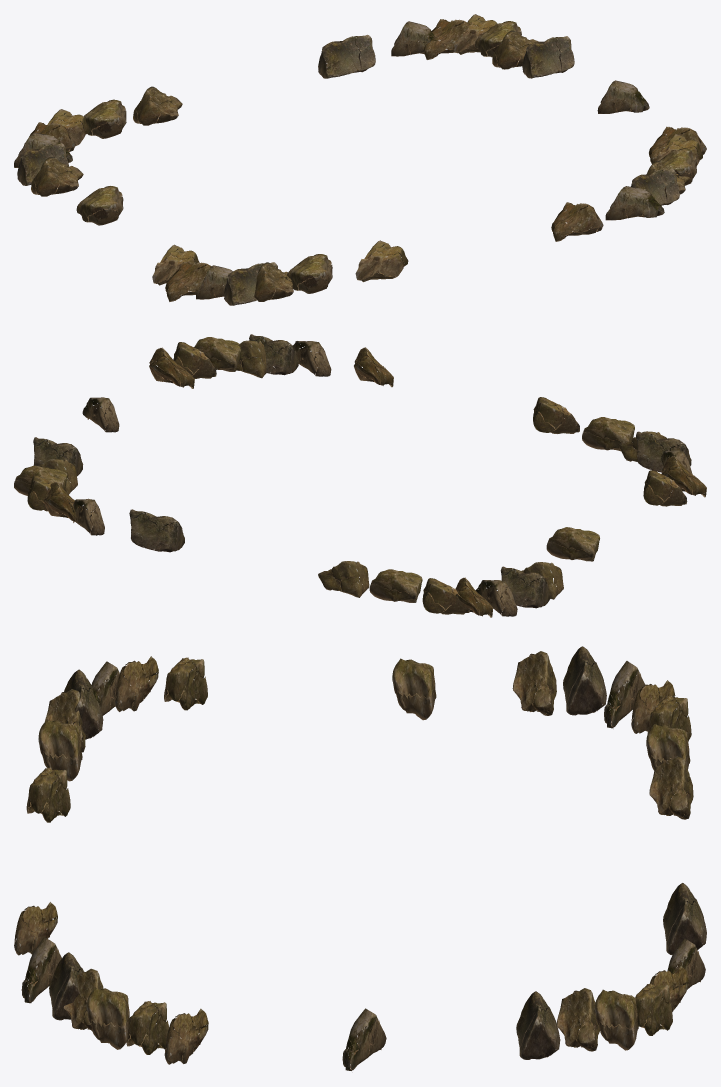
The model's file is arena_fracture_rim_1.glb.
3 views of the same model, one above another, from view 1: azimuth 30°, elevation 25°; view 2: azimuth 150°, elevation 25°; view 3: azimuth 270°, elevation 25° (orthographic). The views are drawn at different scales.
Parts seen in each view (by area): view 1: Fitted thirty naturally fractured cliff stones; view 2: Fitted thirty naturally fractured cliff stones; view 3: Fitted thirty naturally fractured cliff stones.
Part boxes in pixels (box(x1,y1,x2,y2)): Fitted thirty naturally fractured cliff stones: box(14, 14, 706, 305); Fitted thirty naturally fractured cliff stones: box(14, 334, 706, 617); Fitted thirty naturally fractured cliff stones: box(14, 646, 706, 1070).
Size of the model in its own units: 37.88 by 2.22 by 28.28.
Materials: 1 (1 with a texture image).
